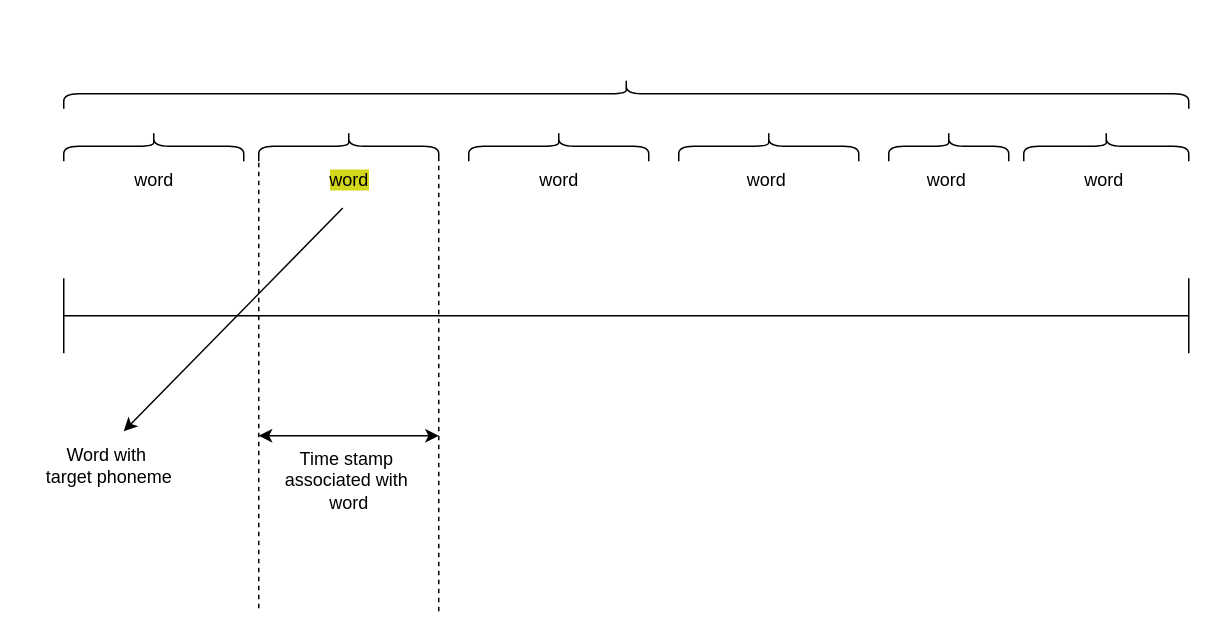
The diagram is 1215 pixels wide and 639 high, and some of its shapes have lost their labels. Here are the shapes that lost their labels. From the top down, the box of each, then its label:
(62, 77, 1189, 109): Audio/Full Text
(62, 277, 1189, 353): Time Domain
